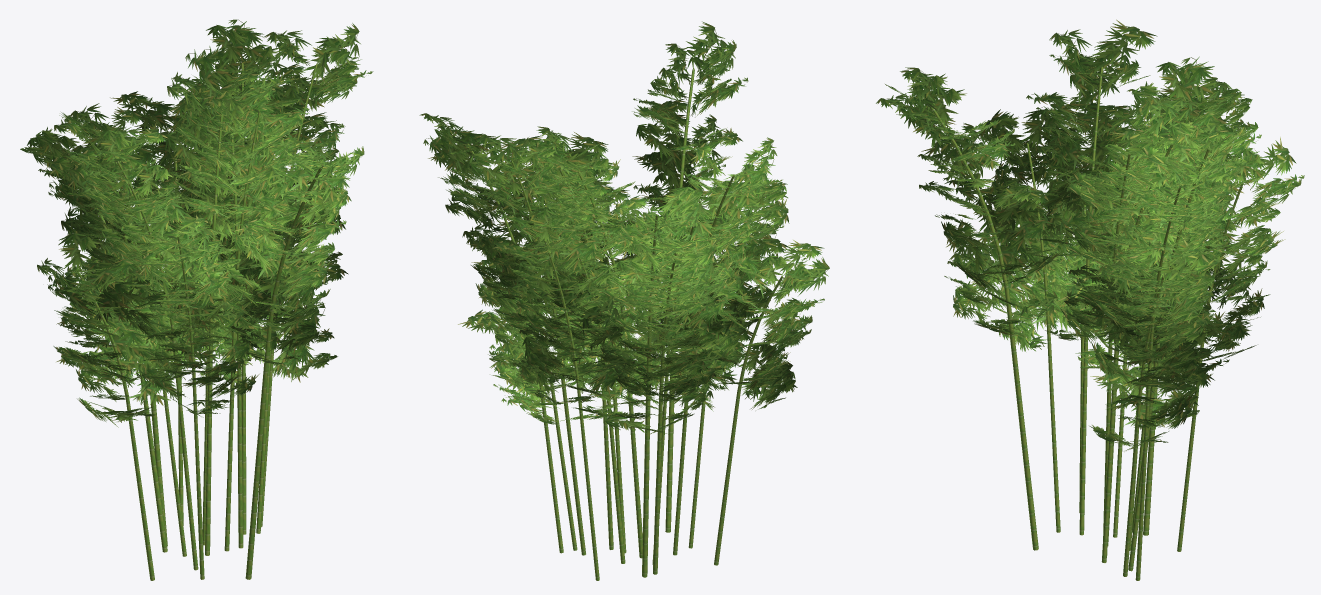
Rendered from Bamboo_A.fbx.
The picture shows the model from 3 angles, left to right: view 1: azimuth 30°, elevation 25°; view 2: azimuth 150°, elevation 25°; view 3: azimuth 270°, elevation 25°; orthographic projection. The views are drawn at different scales.
Parts seen in each view (by area): view 1: Bamboo_A; view 2: Bamboo_A; view 3: Bamboo_A.
Boxes of the visible parts, x1=… form: Bamboo_A: x1=20, y1=19, x2=373, y2=580; Bamboo_A: x1=419, y1=21, x2=829, y2=580; Bamboo_A: x1=876, y1=19, x2=1304, y2=580.
Bounding box in the file's own units: 9.2 × 10.64 × 8.69.
Materials: 2 (2 with a texture image).
